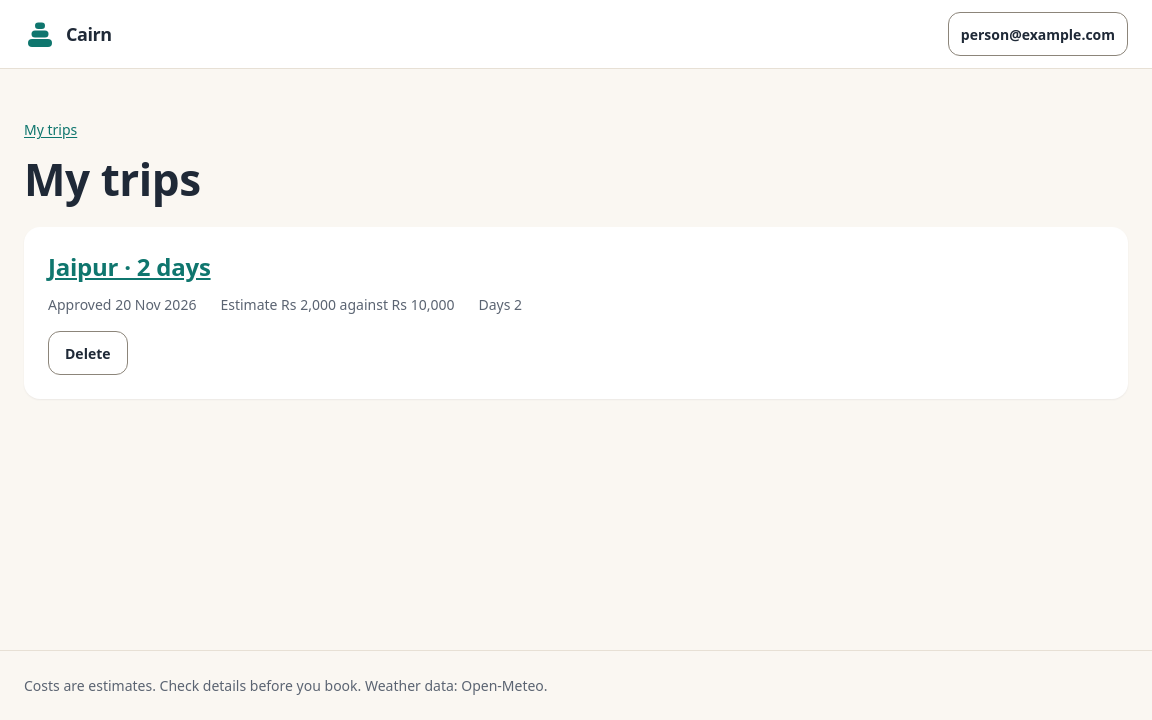
Test: saved trips › requires confirmation before deleting a saved trip
This screenshot has width=1152, height=720.
Expected: the button "person@example.com" is shown, top-left (948, 12), bottom-right (1128, 56)
Expected: the heading "Jaipur · 2 days" is shown, top-left (48, 250), bottom-right (211, 283)
Click the button "Delete".
click(88, 353)  # box top-left (48, 331), bottom-right (128, 375)
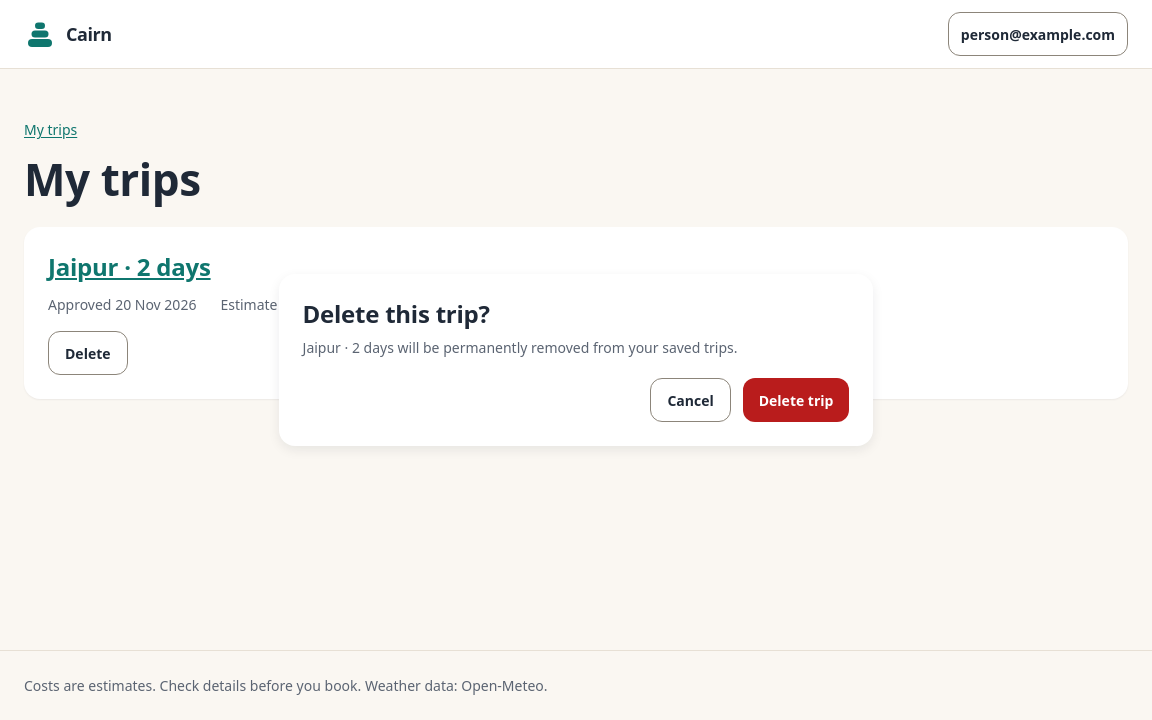
Expected: the dialog is shown, top-left (279, 274), bottom-right (874, 446)
Click the button "Delete trip".
click(796, 400)  # box top-left (743, 378), bottom-right (849, 422)
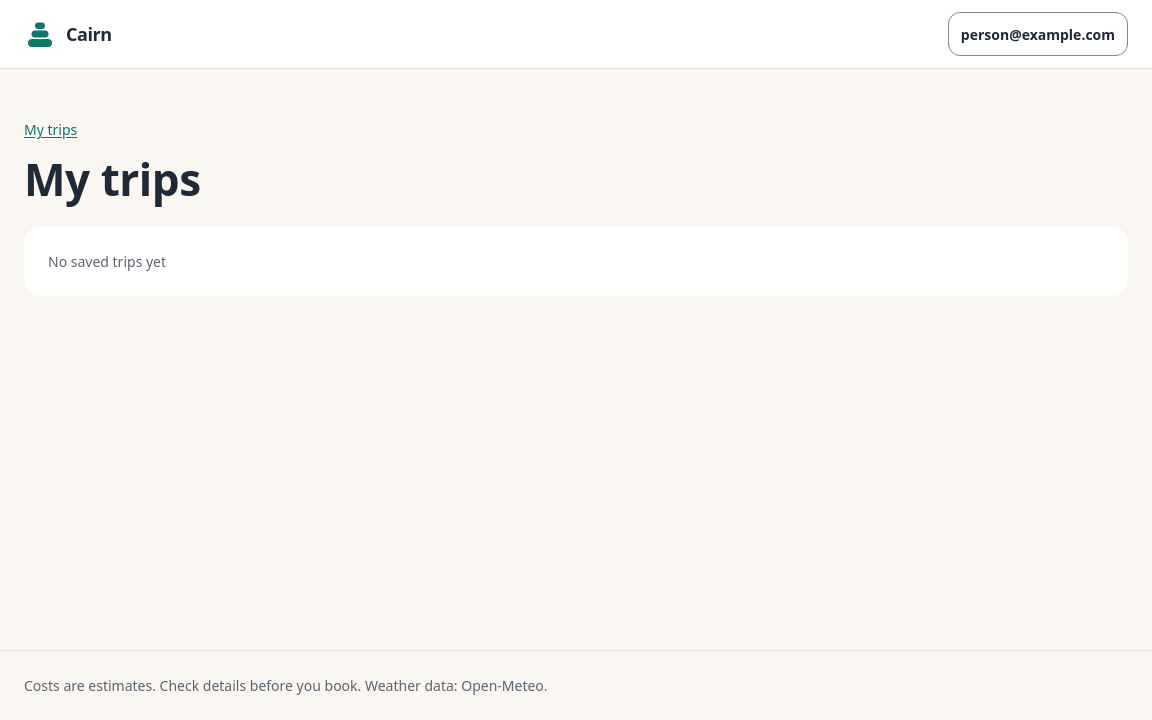
Expected: the text "No saved trips yet" is shown, top-left (24, 227), bottom-right (1128, 296)
